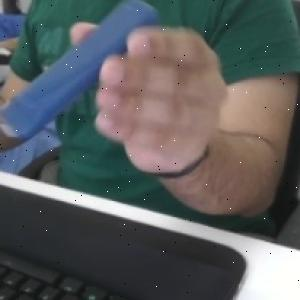Diamond-E-Ciggirate: (1, 0, 159, 141)
